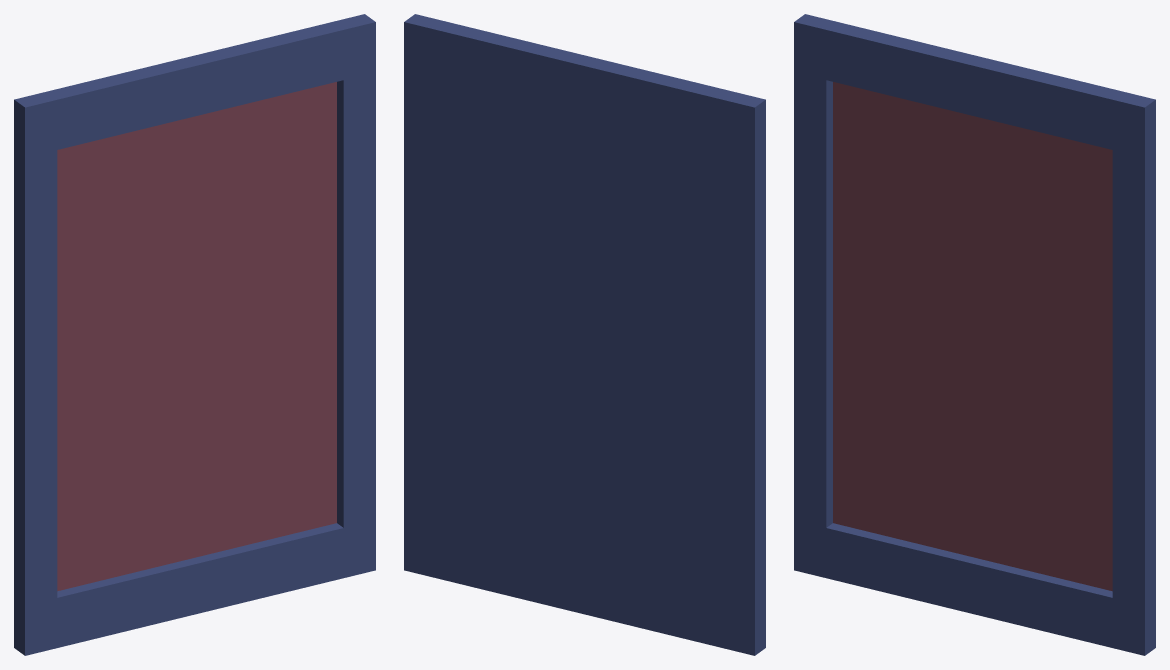
The model's file is PaintingRectangle.fbx.
3 views of the same model, side by side, from view 1: azimuth 30°, elevation 25°; view 2: azimuth 150°, elevation 25°; view 3: azimuth 330°, elevation 25° (orthographic).
Visible parts, largest first — view 1: paintingRectangle; view 2: paintingRectangle; view 3: paintingRectangle.
Boxes of the visible parts, left/top/right/bottom form: paintingRectangle: left=14, top=14, right=375, bottom=655; paintingRectangle: left=404, top=14, right=765, bottom=655; paintingRectangle: left=794, top=14, right=1155, bottom=655.
Bounding box in the file's own units: 1.05 × 1.56 × 0.0568.
